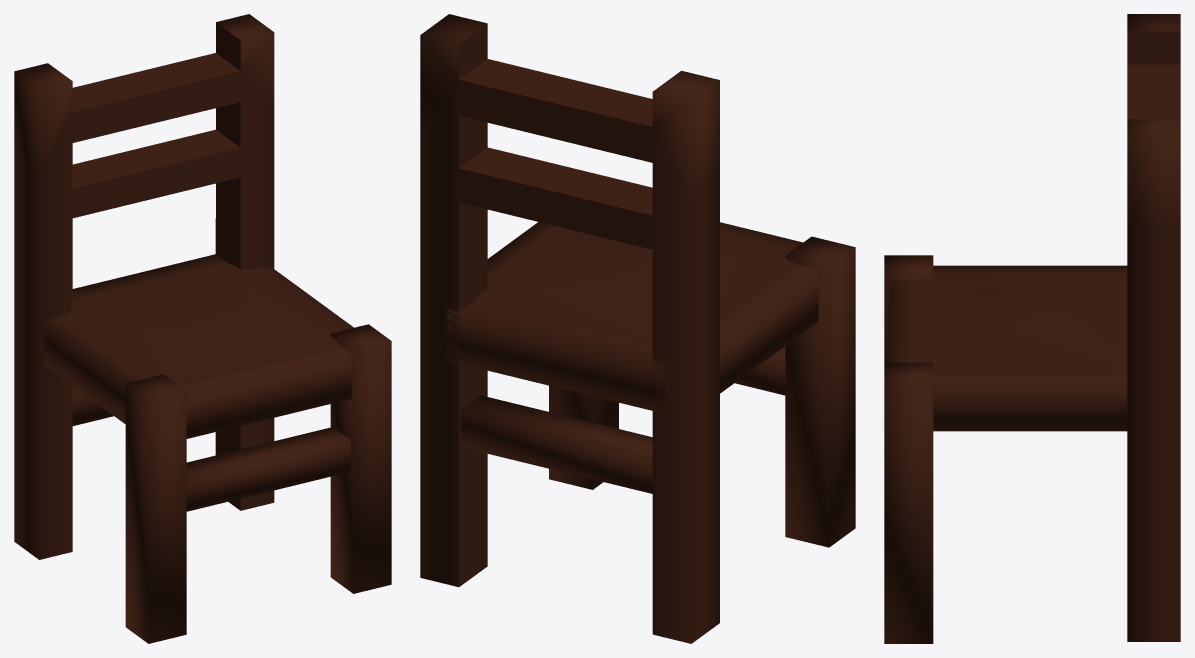
The model's file is chair02.FBX.
3 views of the same model, side by side, from view 1: azimuth 30°, elevation 25°; view 2: azimuth 150°, elevation 25°; view 3: azimuth 270°, elevation 25° (orthographic). The views are drawn at different scales.
Parts seen in each view (by area): view 1: Box031; view 2: Box031; view 3: Box031.
Boxes of the visible parts, x1,y1,x2,y2 form: Box031: (14,14,391,643); Box031: (420,14,855,643); Box031: (884,14,1180,643).
Size of the model in its own units: 19.67 by 36.41 by 19.38.
